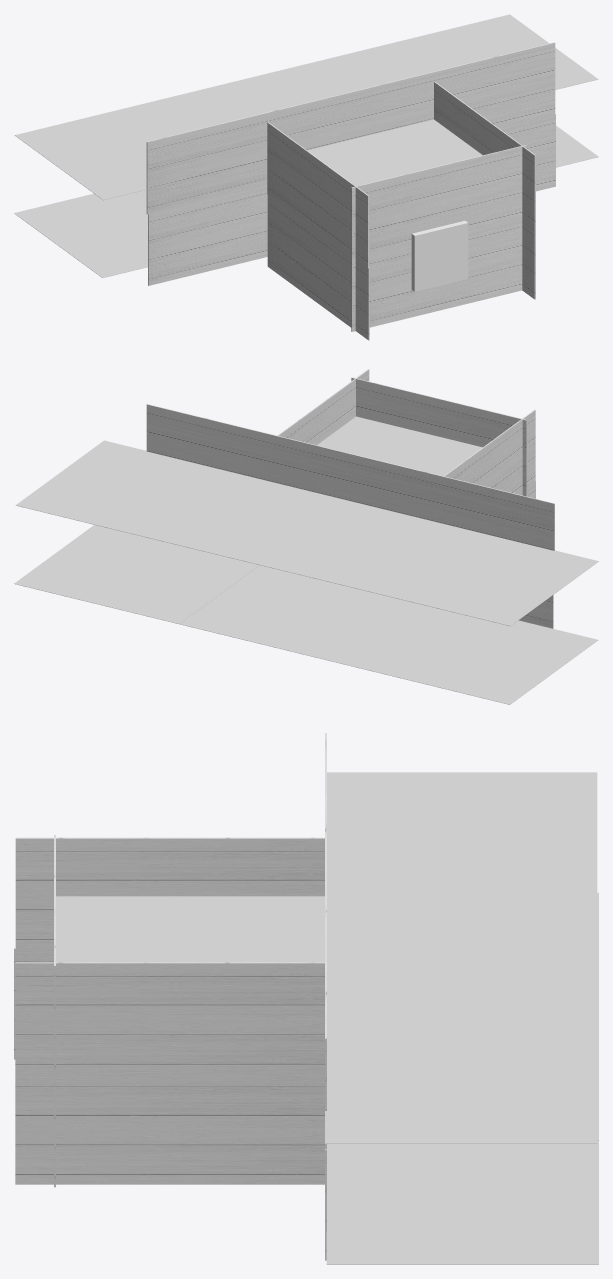
3 renders of one model, top to bottom at view 1: azimuth 30°, elevation 25°; view 2: azimuth 150°, elevation 25°; view 3: azimuth 270°, elevation 25°, orthographic. The views are drawn at different scales.
Visible parts, largest first — view 1: Cube.014, Cube.013, Cube.021, Cube.002, Cube.001, Cube.022, Cube.019, Cube.011, Cube.004, Cube.020, Cube.015, Cube.012 (+4 smaller); view 2: Cube.014, Cube.021, Cube.022, Cube.020, Cube.019, Cube.018, Cube.017, Cube.013, Cube.015, Cube.011, Cube.012, Cube.001; view 3: Cube.012, Cube.003, Cube.022, Cube.021, Cube.020, Cube.018, Cube.011, Cube.015, Cube.014, Cube.004.
Part boxes in pixels (box(x1,y1,x2,y2)): Cube.014: box(146, 42, 555, 214); Cube.013: box(351, 145, 526, 259); Cube.021: box(15, 95, 266, 200); Cube.002: box(351, 218, 522, 331); Cube.001: box(148, 185, 267, 285); Cube.022: box(345, 14, 598, 109); Cube.019: box(14, 190, 147, 277); Cube.011: box(267, 122, 369, 267); Cube.004: box(267, 195, 369, 340); Cube.020: box(180, 54, 384, 123); Cube.015: box(307, 119, 482, 186); Cube.012: box(434, 81, 535, 227); Cube.014: box(146, 404, 554, 550); Cube.021: box(345, 521, 598, 626); Cube.022: box(15, 440, 267, 545); Cube.020: box(181, 481, 432, 585); Cube.019: box(345, 605, 598, 704); Cube.018: box(14, 525, 259, 623); Cube.017: box(179, 565, 424, 664); Cube.013: box(351, 377, 526, 492); Cube.015: box(317, 416, 482, 476); Cube.011: box(444, 409, 535, 494); Cube.012: box(277, 369, 369, 445); Cube.001: box(519, 595, 553, 628); Cube.012: box(15, 962, 324, 1074); Cube.003: box(15, 1073, 324, 1184); Cube.022: box(325, 1019, 597, 1143); Cube.021: box(327, 772, 597, 896); Cube.020: box(327, 896, 597, 1019); Cube.018: box(326, 1140, 598, 1264); Cube.011: box(15, 837, 324, 948); Cube.015: box(56, 896, 324, 962); Cube.014: box(325, 733, 326, 1148); Cube.004: box(14, 948, 53, 1059).
Bounding box in the file's own units: 9231 × 2728 × 6134.
42 materials, 34 textured.
